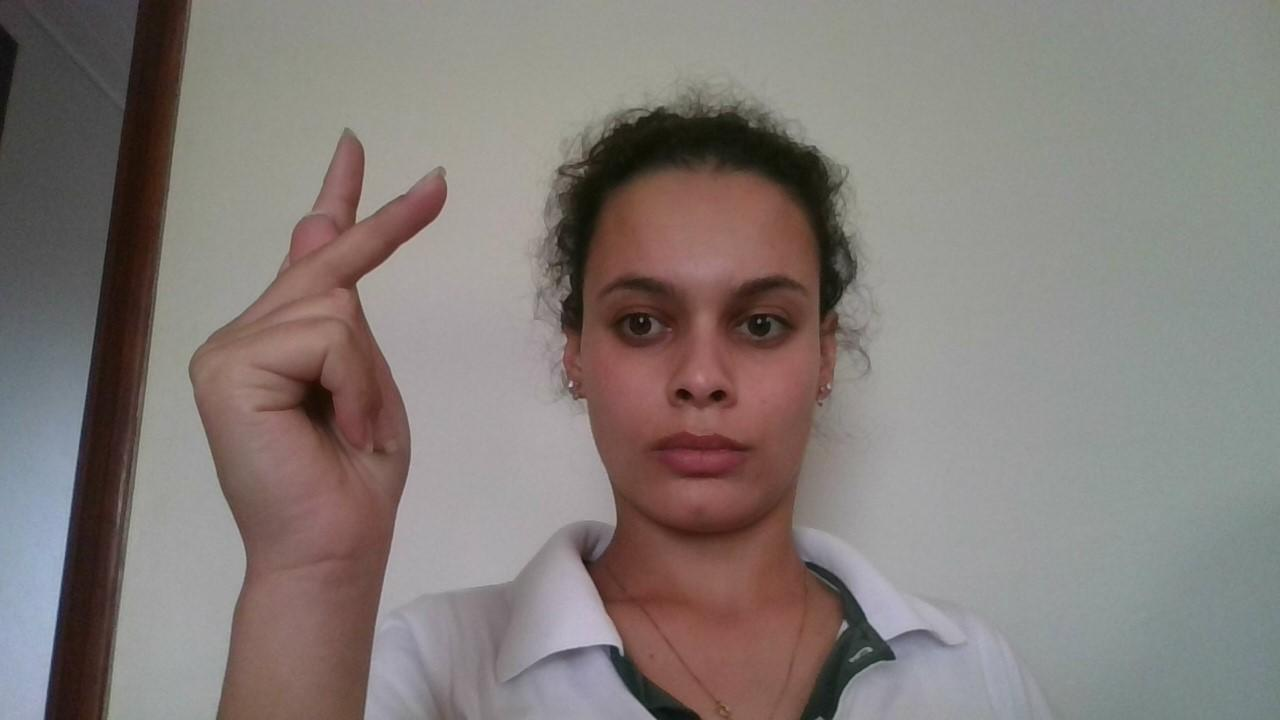K: (188, 122, 456, 550)
